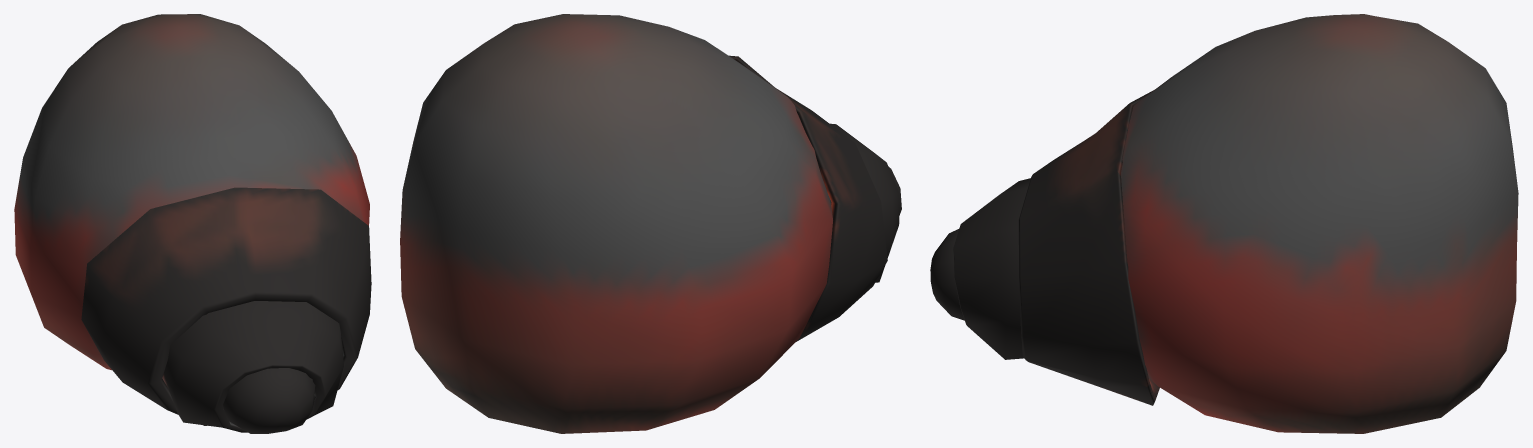
File: foot_right.obj
The picture shows the model from 3 angles, left to right: view 1: azimuth 30°, elevation 25°; view 2: azimuth 150°, elevation 25°; view 3: azimuth 270°, elevation 25°; orthographic projection. The views are drawn at different scales.
Parts seen in each view (by area): view 1: foot_right foot_main_right pivot, foot_right foot_part_2_right, foot_part_3_right foot_right, foot_right foot_tip_right; view 2: foot_right foot_main_right pivot, foot_right foot_part_2_right, foot_part_3_right foot_right; view 3: foot_right foot_main_right pivot, foot_right foot_part_2_right, foot_part_3_right foot_right, foot_right foot_tip_right.
Boxes of the visible parts, x1,y1,x2,y2 form: foot_right foot_main_right pivot: [14, 14, 369, 370]; foot_right foot_part_2_right: [81, 187, 371, 425]; foot_part_3_right foot_right: [162, 301, 343, 432]; foot_right foot_tip_right: [223, 368, 315, 433]; foot_right foot_main_right pivot: [400, 14, 832, 433]; foot_right foot_part_2_right: [729, 55, 887, 341]; foot_part_3_right foot_right: [830, 123, 899, 282]; foot_right foot_main_right pivot: [1121, 14, 1518, 433]; foot_right foot_part_2_right: [1018, 90, 1159, 405]; foot_part_3_right foot_right: [953, 178, 1030, 359]; foot_right foot_tip_right: [930, 229, 964, 320].
Bounding box in the file's own units: 0.2763 × 0.2567 × 0.3832.
Materials: 1 (1 with a texture image).
